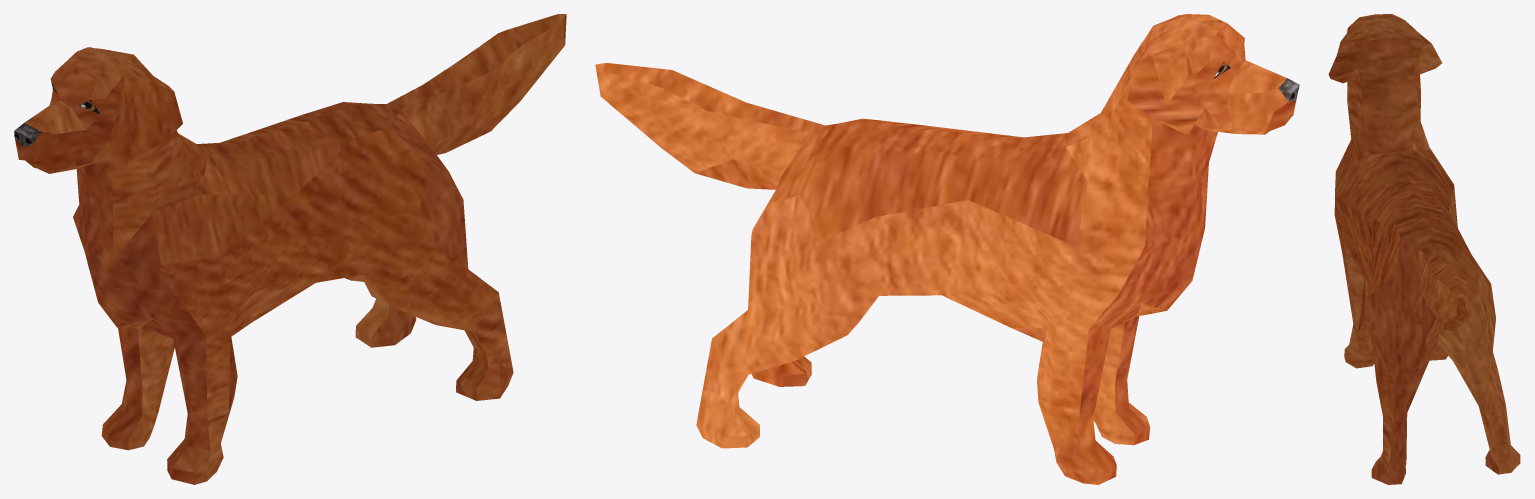
The model's file is Golden.obj.
The picture shows the model from 3 angles, left to right: view 1: azimuth 30°, elevation 25°; view 2: azimuth 150°, elevation 25°; view 3: azimuth 270°, elevation 25°; orthographic projection. The views are drawn at different scales.
Parts seen in each view (by area): view 1: Golden:polySurface2; view 2: Golden:polySurface2; view 3: Golden:polySurface2.
Part boxes in pixels (<box>): Golden:polySurface2: <box>14,14,566,484</box>; Golden:polySurface2: <box>595,14,1299,484</box>; Golden:polySurface2: <box>1328,14,1520,484</box>.
Bounding box in the file's own units: 5.87 × 3.98 × 2.17.
4 materials, 4 textured.
